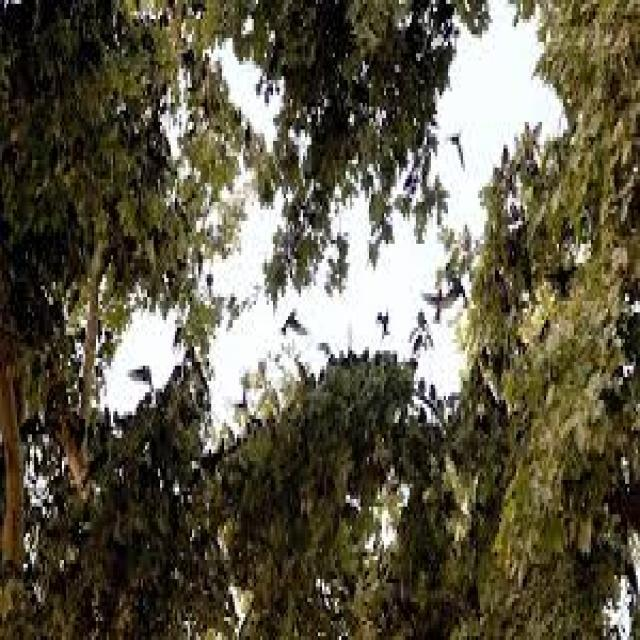bird: (436, 114, 474, 183), (274, 294, 319, 351)
